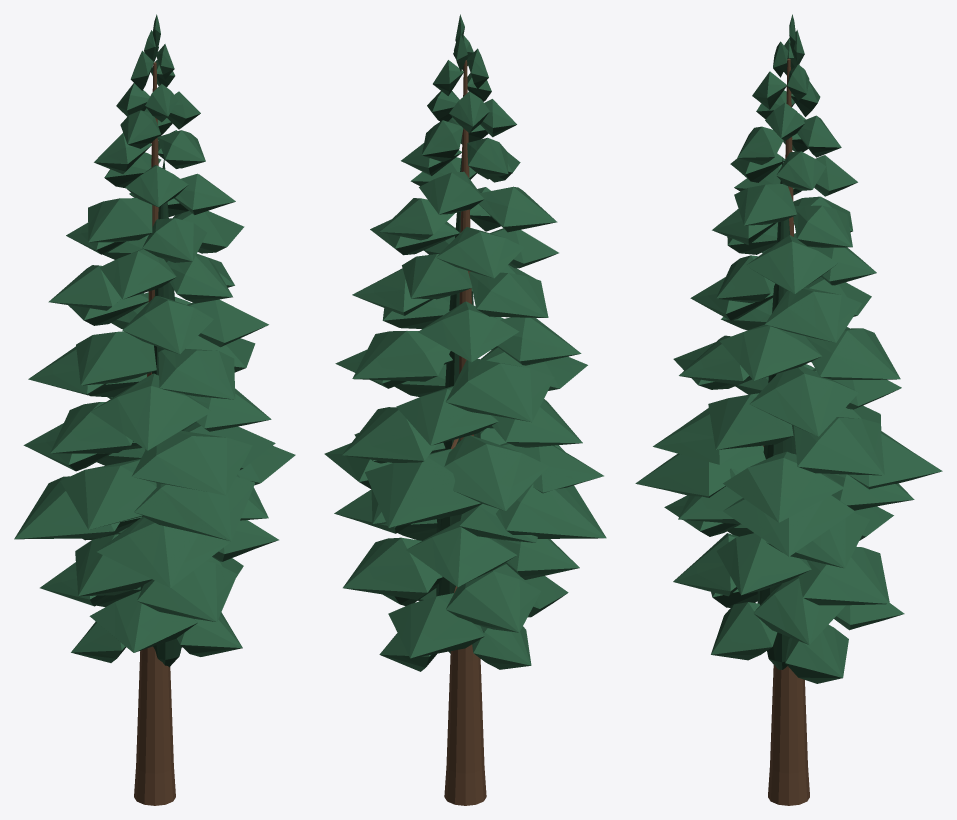
The model's file is irregular-mature-lod0.glb.
The picture shows the model from 3 angles, left to right: view 1: azimuth 30°, elevation 25°; view 2: azimuth 150°, elevation 25°; view 3: azimuth 270°, elevation 25°; orthographic projection.
Visible parts, largest first — view 1: OuterNeedles, InnerNeedles, Bark; view 2: OuterNeedles, InnerNeedles, Bark; view 3: OuterNeedles, InnerNeedles, Bark.
Part boxes in pixels (<box>): OuterNeedles: <box>14,14,295,652</box>; InnerNeedles: <box>16,29,277,667</box>; Bark: <box>134,62,175,805</box>; OuterNeedles: <box>324,14,606,665</box>; InnerNeedles: <box>336,28,603,671</box>; Bark: <box>444,60,486,805</box>; OuterNeedles: <box>635,14,942,677</box>; InnerNeedles: <box>637,35,940,683</box>; Bark: <box>763,58,809,805</box>.
Bounding box in the file's own units: 8.5 × 22.5 × 8.
